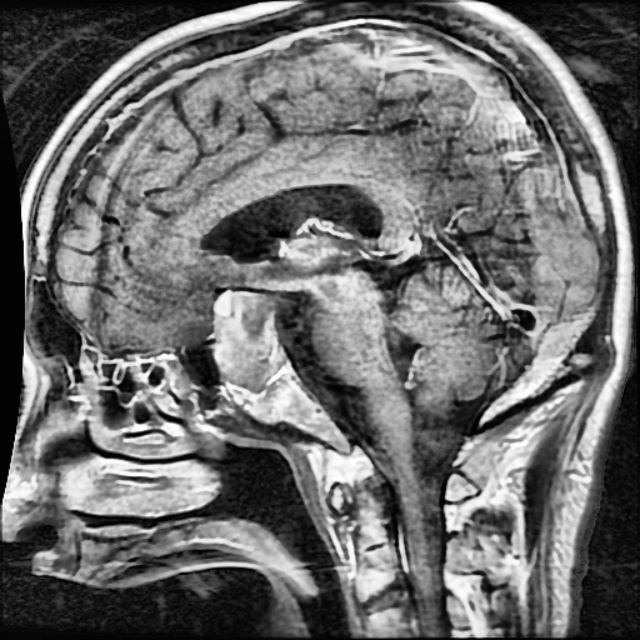Pituitary: (209, 292, 290, 390)
